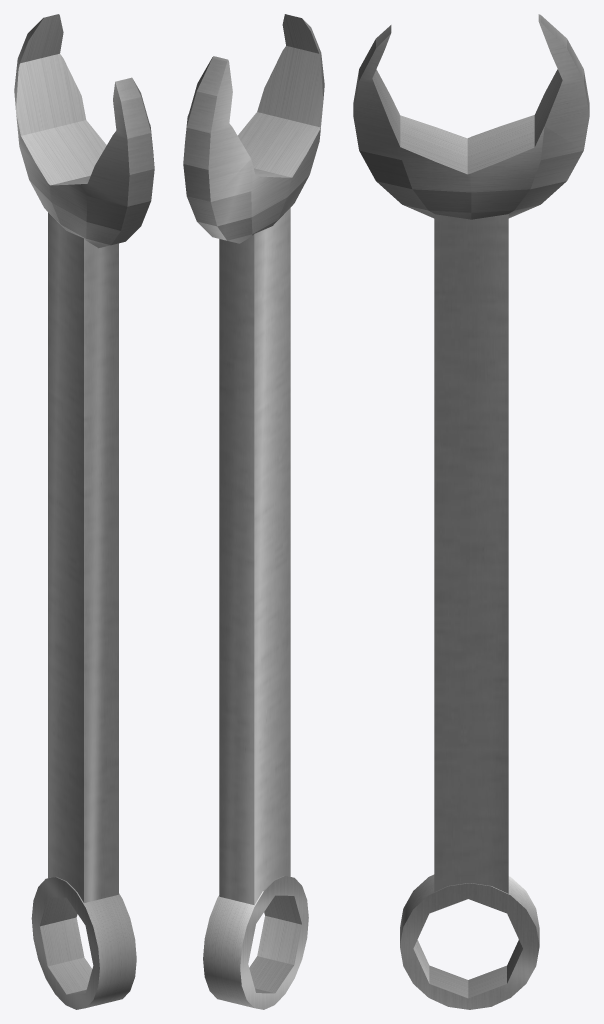
The model's file is Collectable_Spanna.fbx.
The picture shows the model from 3 angles, left to right: view 1: azimuth 30°, elevation 25°; view 2: azimuth 150°, elevation 25°; view 3: azimuth 270°, elevation 25°; orthographic projection. The views are drawn at different scales.
Parts seen in each view (by area): view 1: Collectable_Spanna; view 2: Collectable_Spanna; view 3: Collectable_Spanna.
Boxes of the visible parts, x1,y1,x2,y2 form: Collectable_Spanna: [14, 14, 154, 1009]; Collectable_Spanna: [183, 14, 324, 1009]; Collectable_Spanna: [353, 14, 589, 1009].
Bounding box in the file's own units: 1.22 × 15.22 × 3.31.
Materials: 1 (1 with a texture image).
